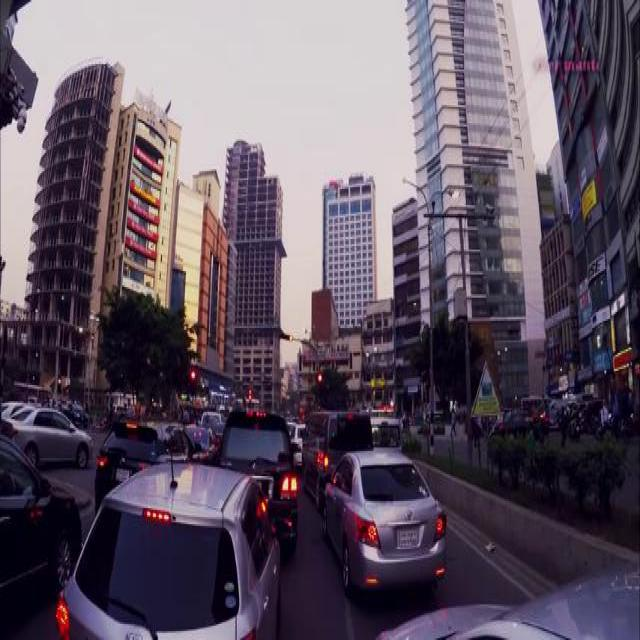bike: (621, 411, 640, 441)
vehicle: (55, 459, 281, 639), (323, 446, 448, 590), (380, 572, 640, 635), (1, 433, 83, 624), (217, 409, 299, 555), (95, 417, 205, 510), (301, 409, 374, 504), (2, 405, 94, 469), (370, 416, 406, 451), (498, 410, 536, 435)
